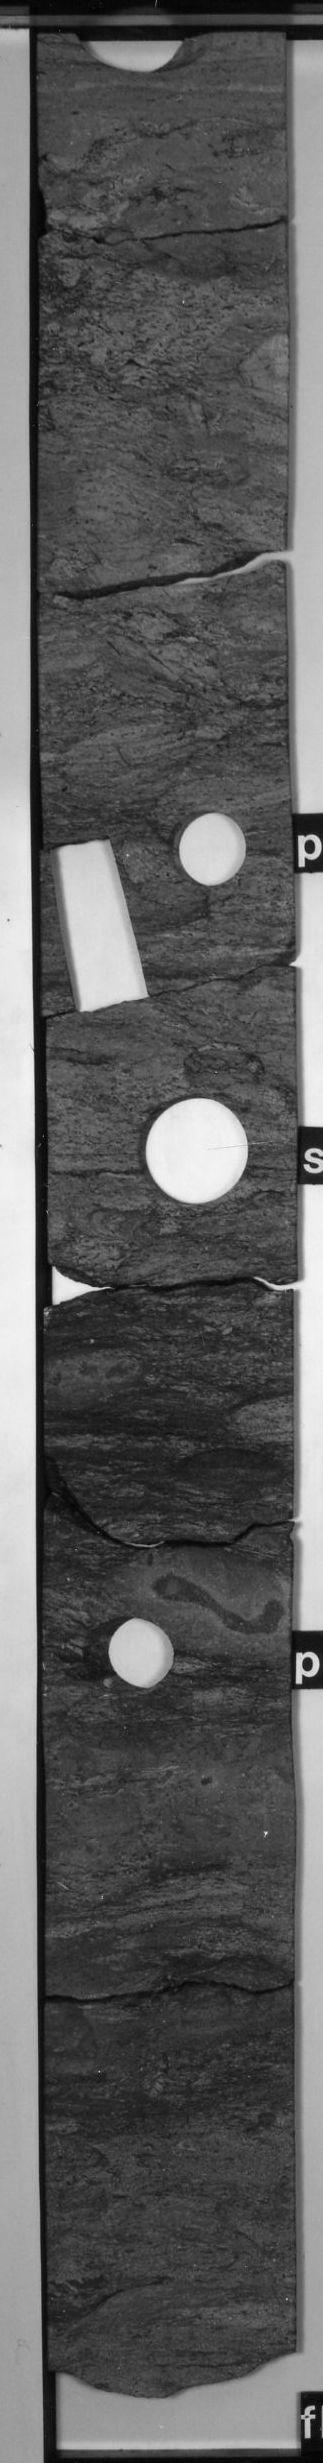hplug: (88, 1601, 193, 1706), (160, 800, 265, 895), (67, 27, 218, 82)
scal: (50, 2347, 296, 2444), (124, 1081, 267, 1217)
vplug: (41, 823, 165, 1026)
